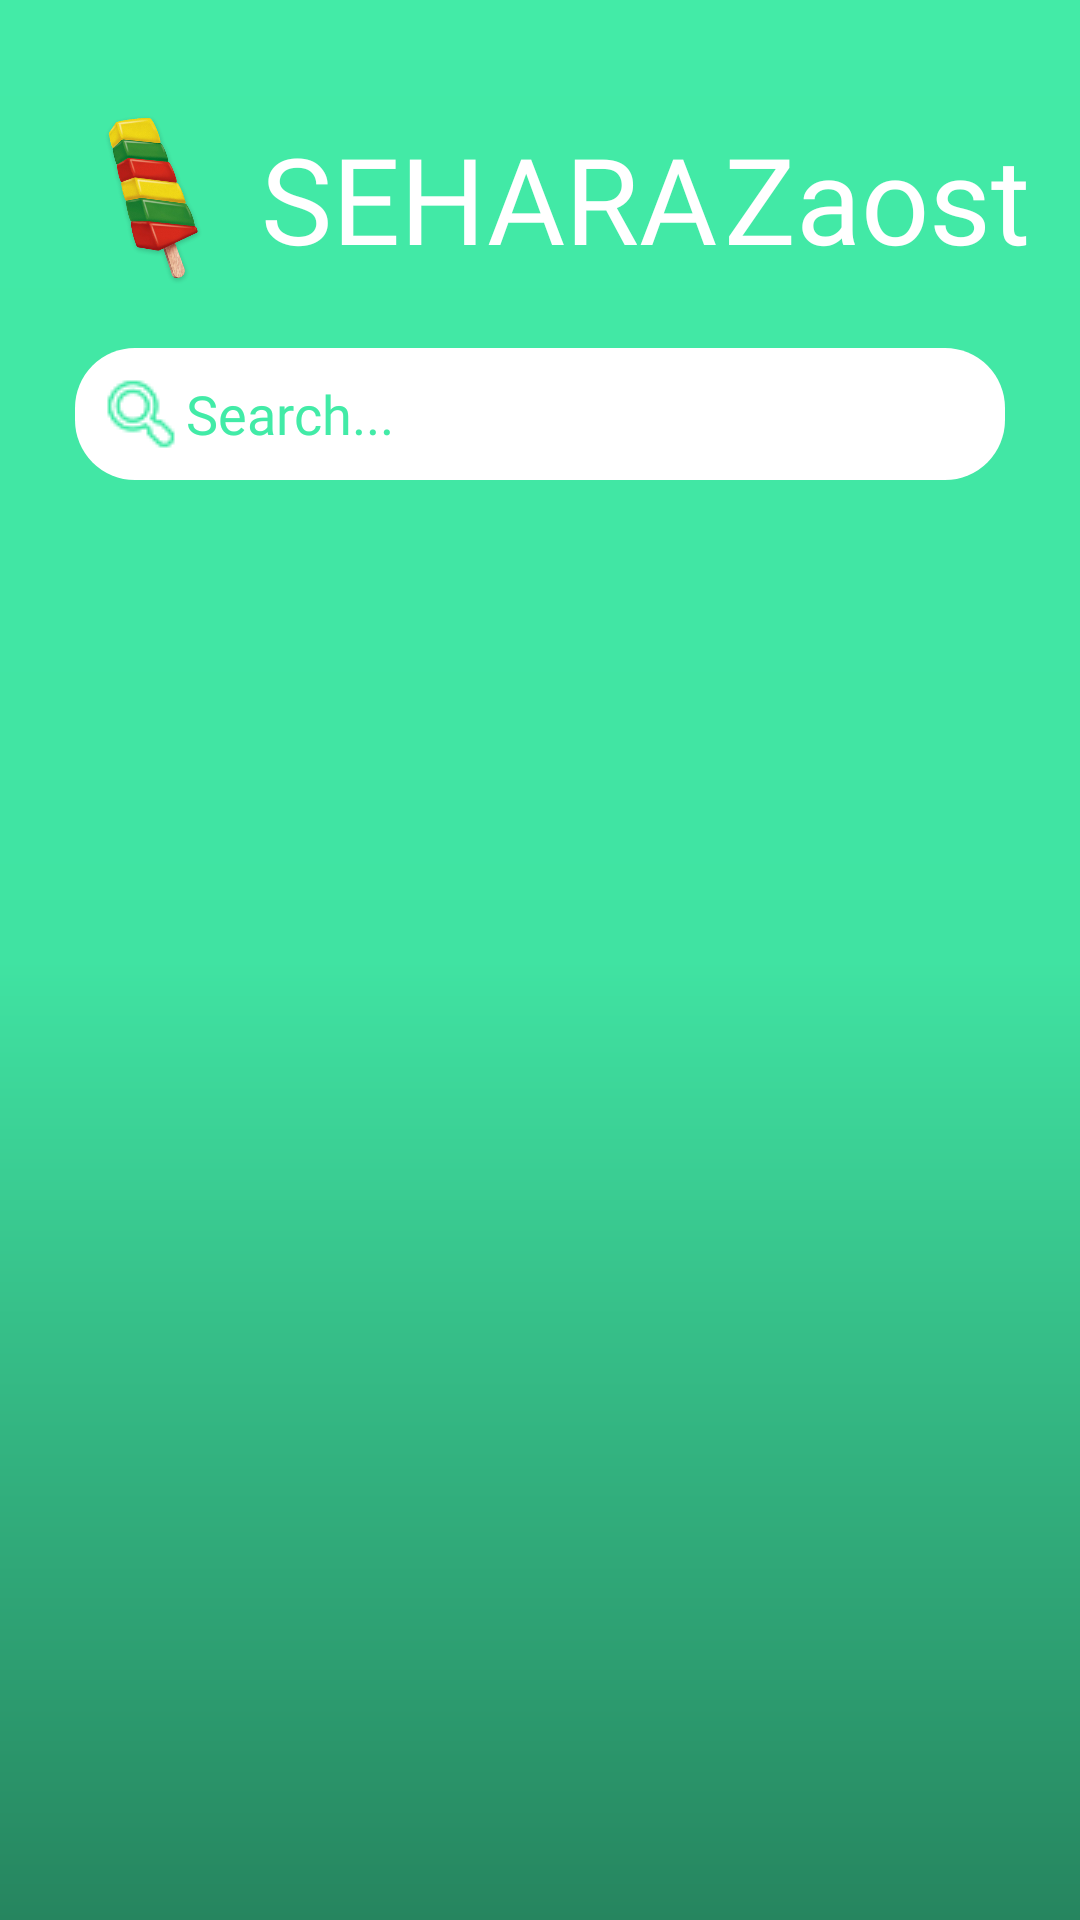

Icons on this 1080*1920 Android screen, each with its box as (x1, y1, x2, y2):
kontiki: (109, 118, 198, 280)
